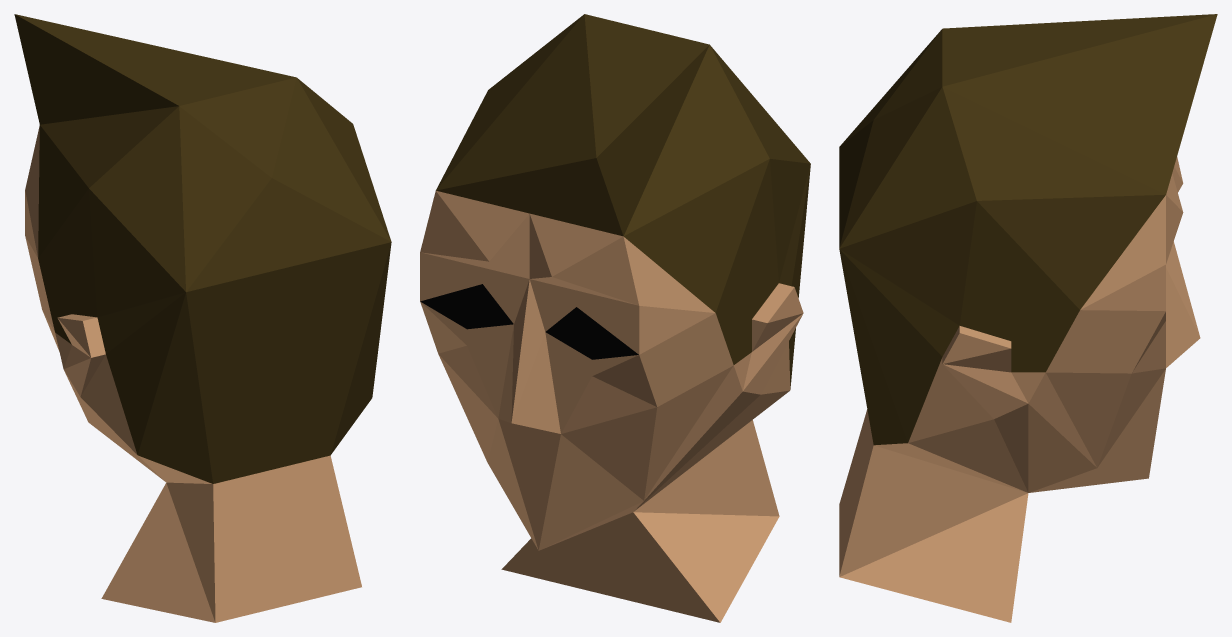
Rendered from player_female_head_52_0.obj.
3 views of the same model, side by side, from view 1: azimuth 30°, elevation 25°; view 2: azimuth 150°, elevation 25°; view 3: azimuth 270°, elevation 25° (orthographic). The views are drawn at different scales.
Bounding box in the file's own units: 0.1562 × 0.2578 × 0.1719.
